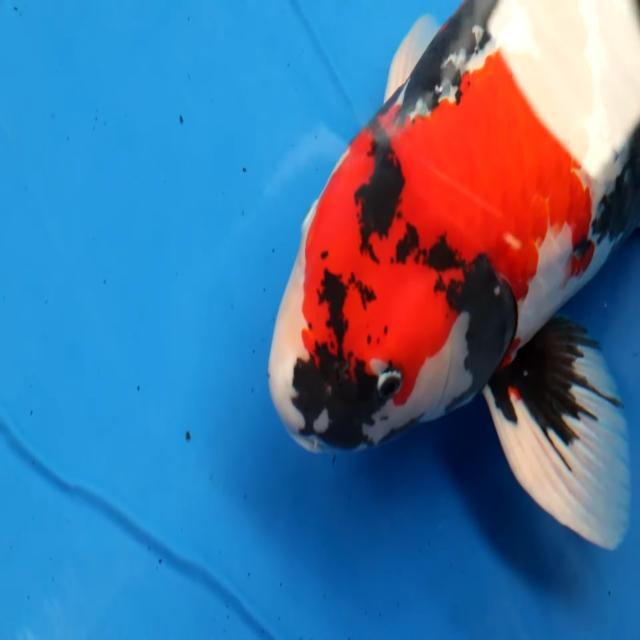Showa: (266, 0, 639, 551)
